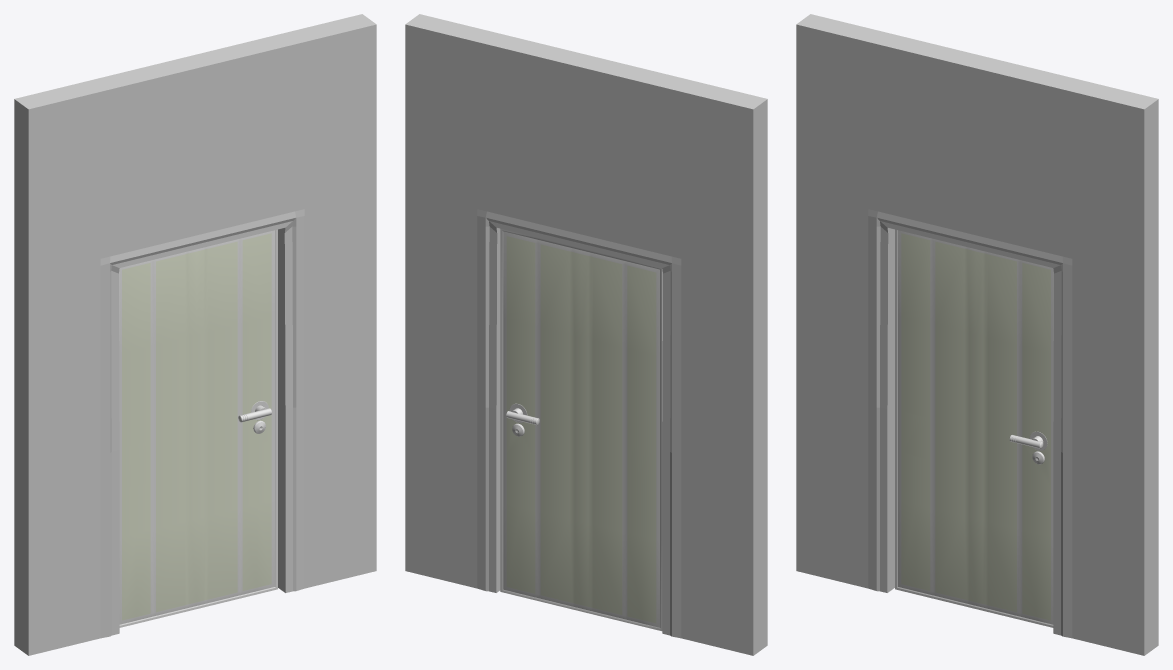
The model's file is door_frame.fbx.
3 renders of one model, left to right at view 1: azimuth 30°, elevation 25°; view 2: azimuth 150°, elevation 25°; view 3: azimuth 330°, elevation 25°, orthographic.
Visible parts, largest first — view 1: door_frame, Door; view 2: door_frame, Door; view 3: door_frame, Door.
Part boxes in pixels (x1=…): door_frame: x1=14, y1=14, x2=376, y2=655; Door: x1=119, y1=229, x2=277, y2=627; door_frame: x1=405, y1=14, x2=767, y2=655; Door: x1=500, y1=228, x2=662, y2=631; door_frame: x1=796, y1=14, x2=1158, y2=655; Door: x1=895, y1=229, x2=1053, y2=627.
Bounding box in the file's own units: 200 × 300 × 18.55.
